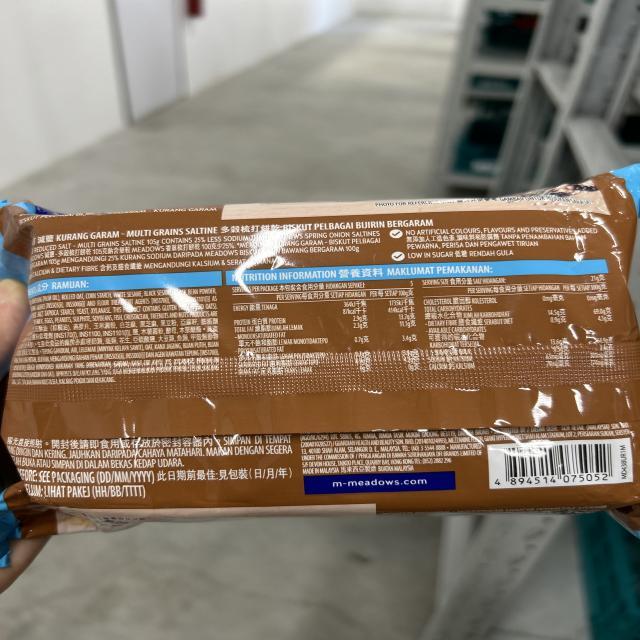object_name: (26, 216, 636, 504)
